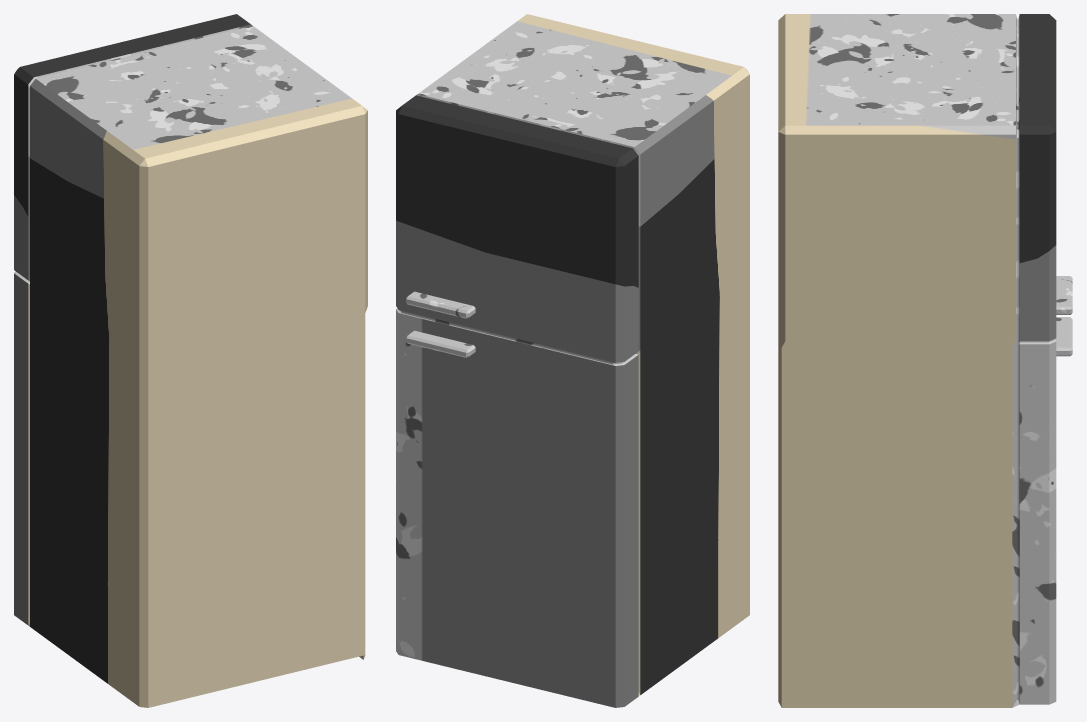
File: fridge.fbx
The picture shows the model from 3 angles, left to right: view 1: azimuth 30°, elevation 25°; view 2: azimuth 150°, elevation 25°; view 3: azimuth 270°, elevation 25°; orthographic projection. The views are drawn at different scales.
Visible parts, largest first — view 1: fridge; view 2: fridge; view 3: fridge.
Part boxes in pixels (bbox=[...]): fridge: bbox=[14, 14, 367, 707]; fridge: bbox=[396, 14, 749, 707]; fridge: bbox=[778, 14, 1072, 707].
Bounding box in the file's own units: 93.34 × 216 × 98.8.
1 material, 1 textured.
